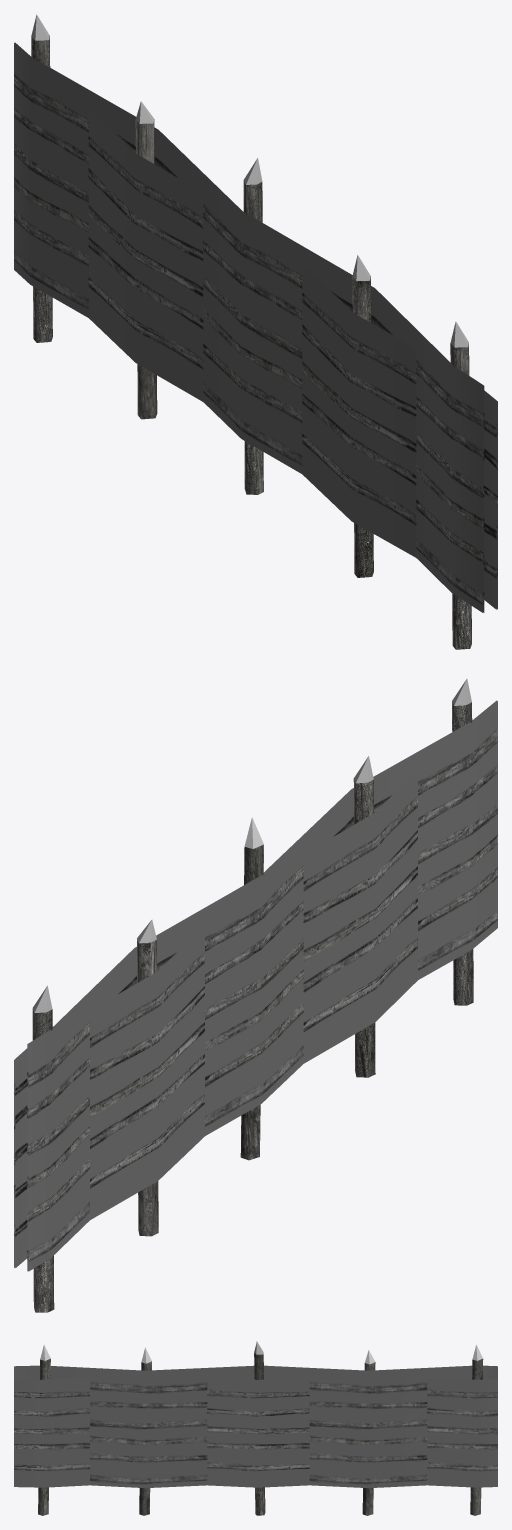
The model's file is mw_wattle_fence.FBX.
The picture shows the model from 3 angles, top to bottom: view 1: azimuth 30°, elevation 25°; view 2: azimuth 150°, elevation 25°; view 3: azimuth 270°, elevation 25°; orthographic projection. The views are drawn at different scales.
Visible parts, largest first — view 1: mw_wattle_fence; view 2: mw_wattle_fence; view 3: mw_wattle_fence.
Boxes of the visible parts, x1,y1,x2,y2 form: mw_wattle_fence: (14,14,497,649); mw_wattle_fence: (14,678,497,1312); mw_wattle_fence: (14,1341,497,1515).
Bounding box in the file's own units: 17.24 × 233 × 589.
